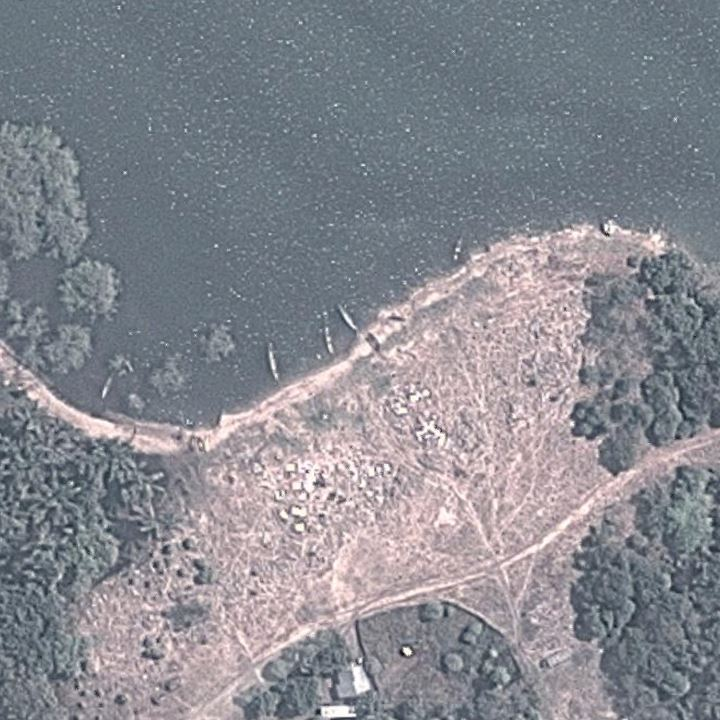boat: (260, 339, 287, 387), (92, 367, 122, 402), (334, 301, 361, 333), (317, 317, 339, 356), (447, 231, 470, 263)
